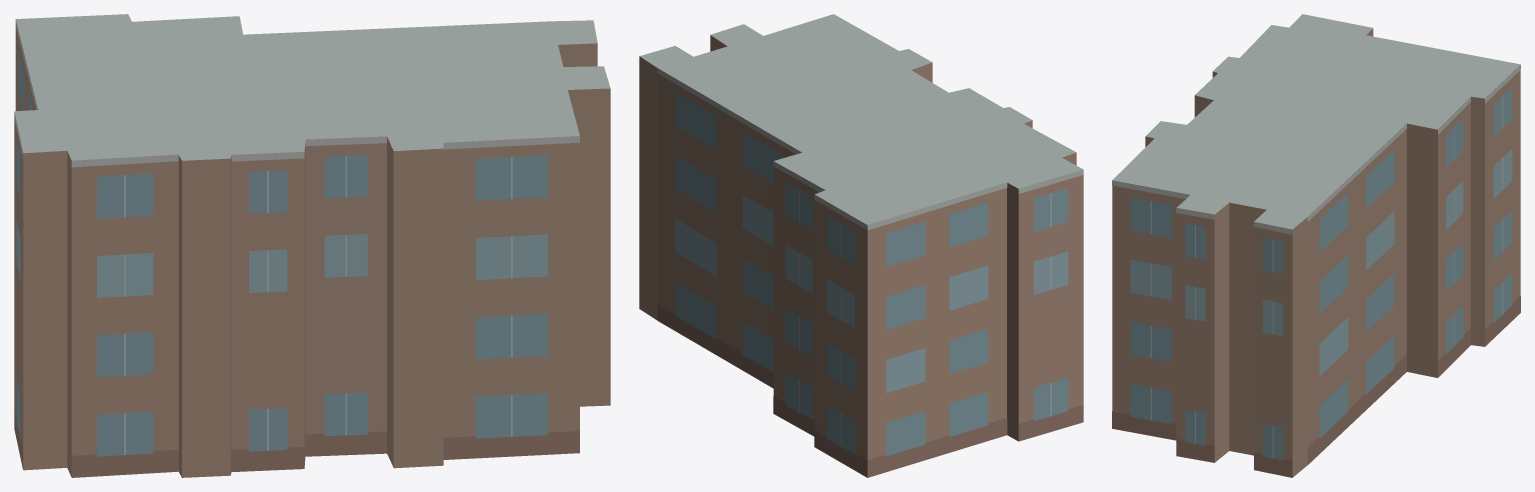
File: survey-upis-32634367.glb
The picture shows the model from 3 angles, left to right: view 1: azimuth 30°, elevation 25°; view 2: azimuth 150°, elevation 25°; view 3: azimuth 270°, elevation 25°; orthographic projection. The views are drawn at different scales.
Parts seen in each view (by area): view 1: survey-upis-32634367.tmp; view 2: survey-upis-32634367.tmp; view 3: survey-upis-32634367.tmp.
Boxes of the visible parts, x1,y1,x2,y2 form: survey-upis-32634367.tmp: (14,14,610,477); survey-upis-32634367.tmp: (639,14,1083,477); survey-upis-32634367.tmp: (1112,14,1520,477).
Bounding box in the file's own units: 21.69 × 11.65 × 17.38.
